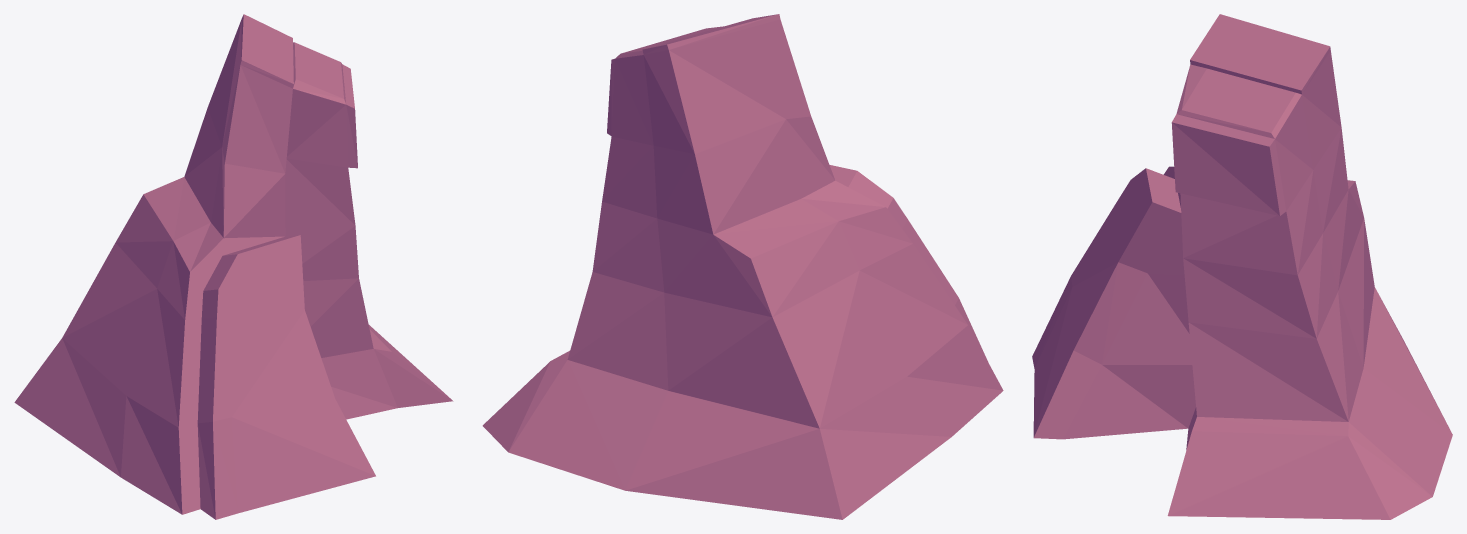
Rendered from Pillar.fbx.
The picture shows the model from 3 angles, left to right: view 1: azimuth 30°, elevation 25°; view 2: azimuth 150°, elevation 25°; view 3: azimuth 270°, elevation 25°; orthographic projection. The views are drawn at different scales.
Parts seen in each view (by area): view 1: Module_Pillar_Mesh_v01; view 2: Module_Pillar_Mesh_v01; view 3: Module_Pillar_Mesh_v01.
Boxes of the visible parts, x1,y1,x2,y2 form: Module_Pillar_Mesh_v01: [14, 14, 453, 519]; Module_Pillar_Mesh_v01: [482, 14, 1003, 519]; Module_Pillar_Mesh_v01: [1032, 14, 1452, 519].
Size of the model in its own units: 190 by 198 by 188.
